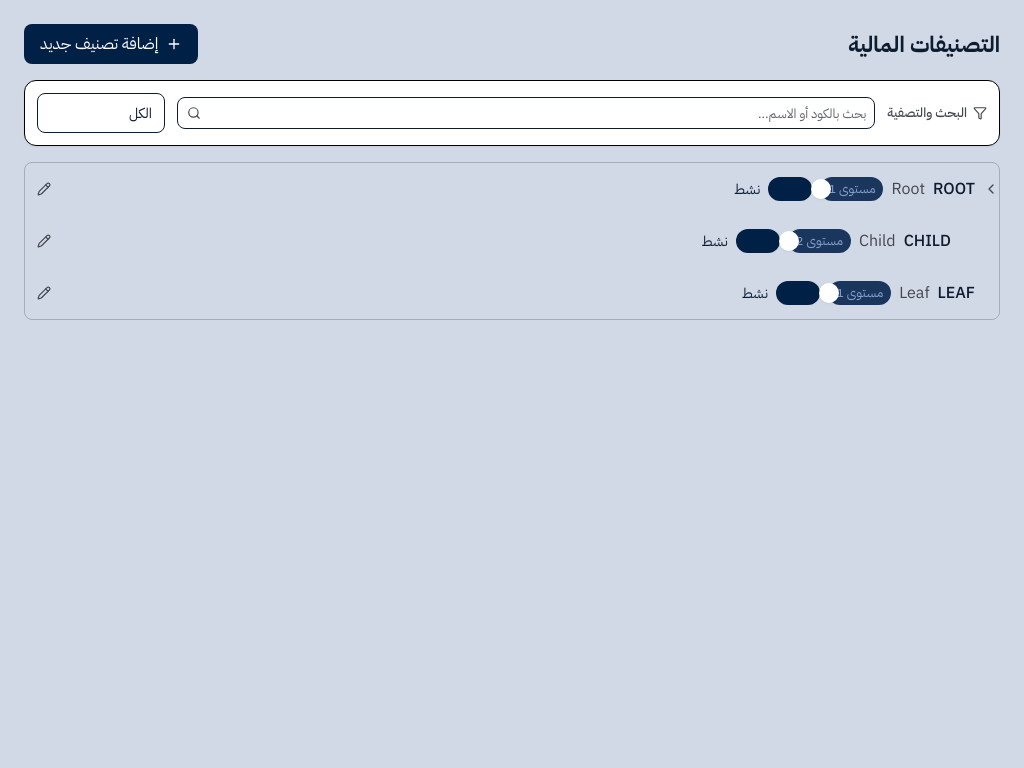
Test case: T024-T025: Toggle flow › toggle switch opens confirmation dialog
The image size is (1024, 768).
Click the 1st switch.
click(790, 189)  # box x1=768 y1=177 x2=812 y2=201
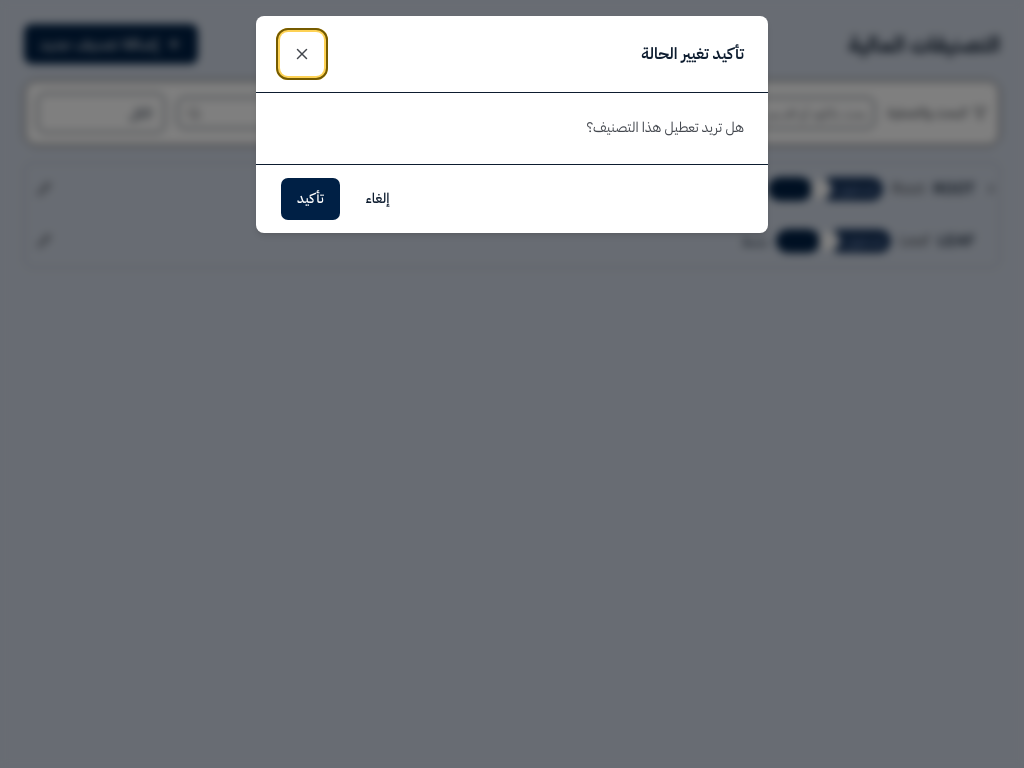
Check: the heading "تأكيد تغيير الحالة" is shown, box x1=641 y1=42 x2=744 y2=66
